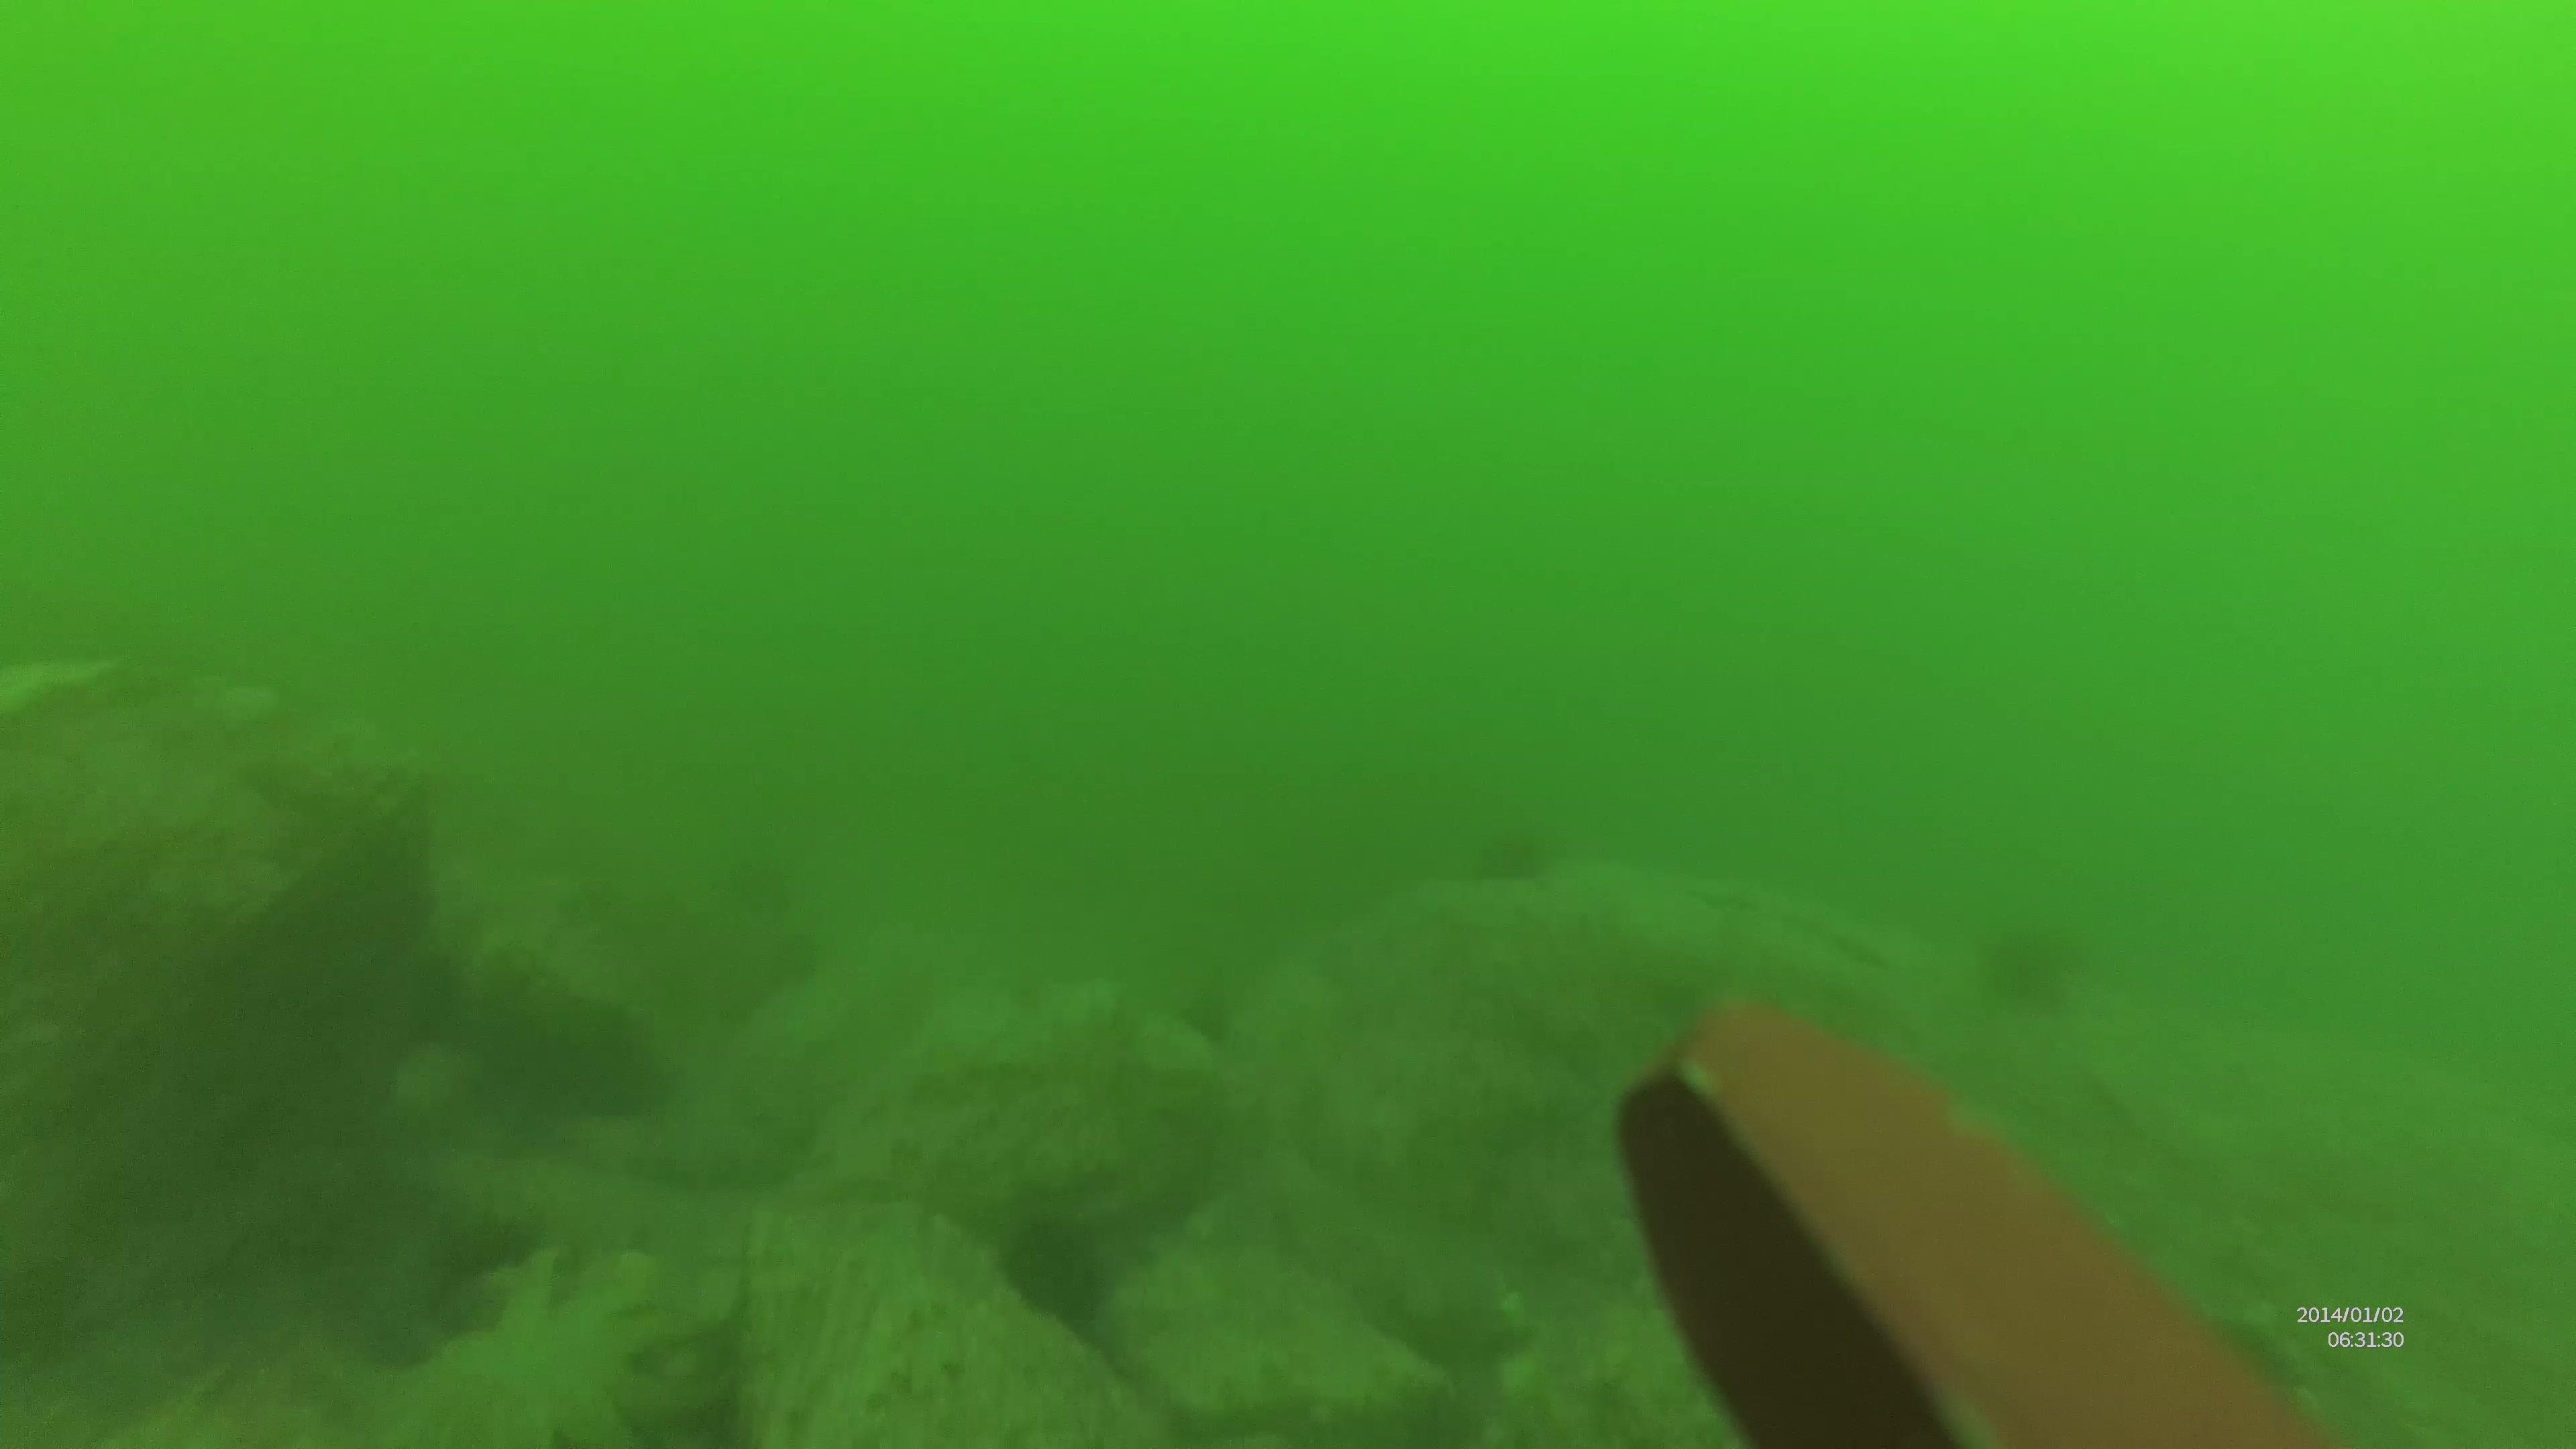echinus: (982, 1214, 1113, 1309)
